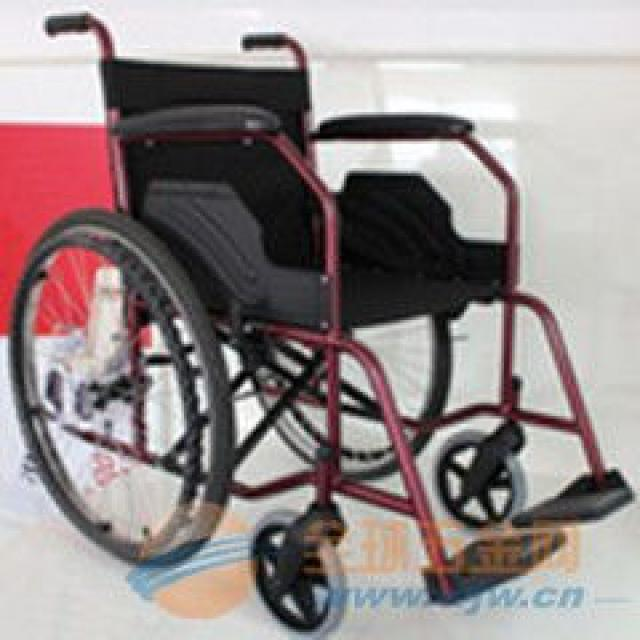wheelchair: (8, 8, 638, 627)
